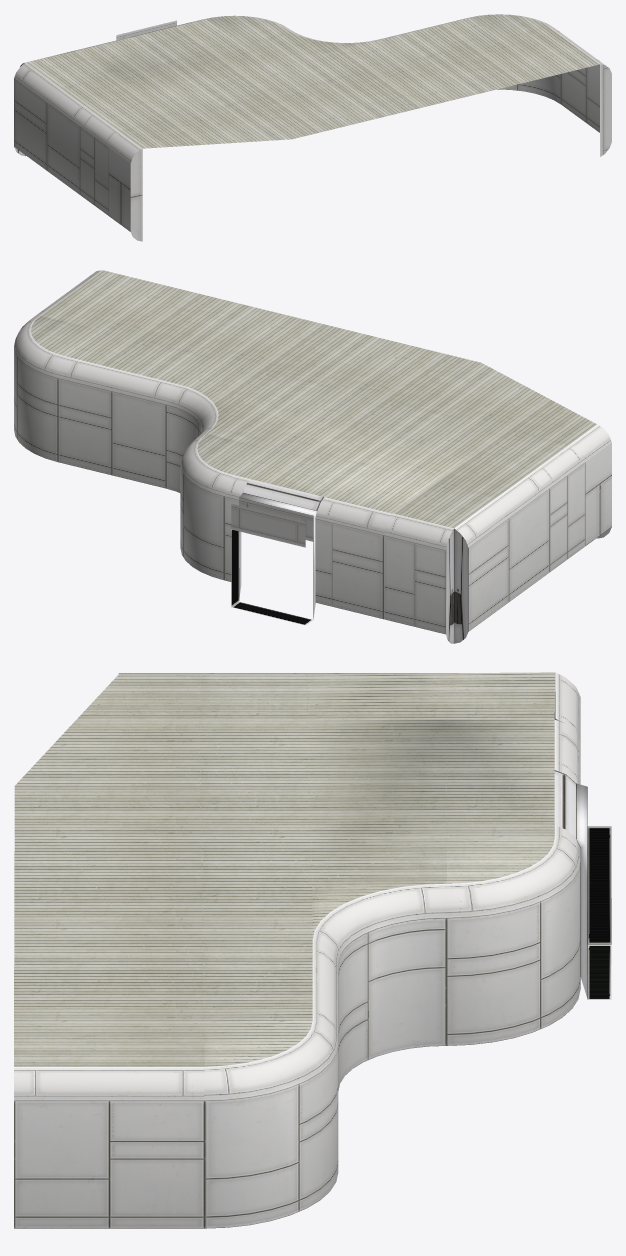
Rendered from STA20_officeb01.FBX.
3 views of the same model, one above another, from view 1: azimuth 30°, elevation 25°; view 2: azimuth 150°, elevation 25°; view 3: azimuth 270°, elevation 25° (orthographic). The views are drawn at different scales.
Visible parts, largest first — view 1: STA20_officeb01; view 2: STA20_officeb01; view 3: STA20_officeb01.
Boxes of the visible parts, x1,y1,x2,y2 form: STA20_officeb01: (14, 14, 611, 241); STA20_officeb01: (14, 270, 611, 643); STA20_officeb01: (14, 672, 611, 1228).
Bounding box in the file's own units: 22.49 × 4.45 × 13.71.
